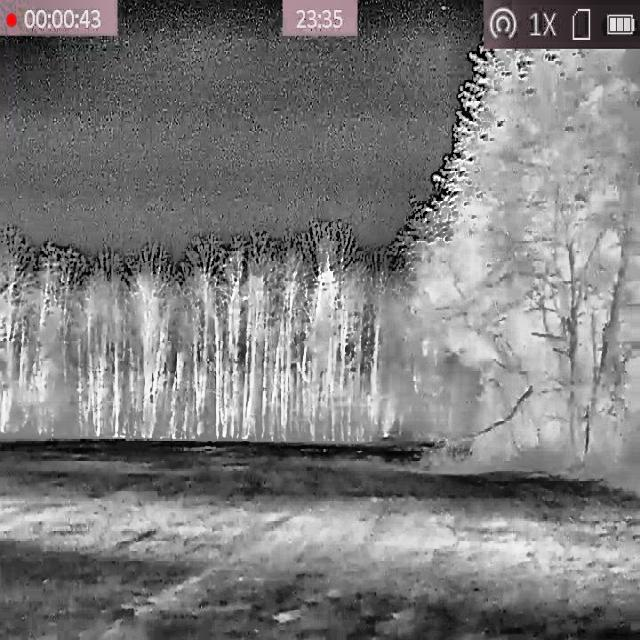drone: (242, 294, 249, 302)
